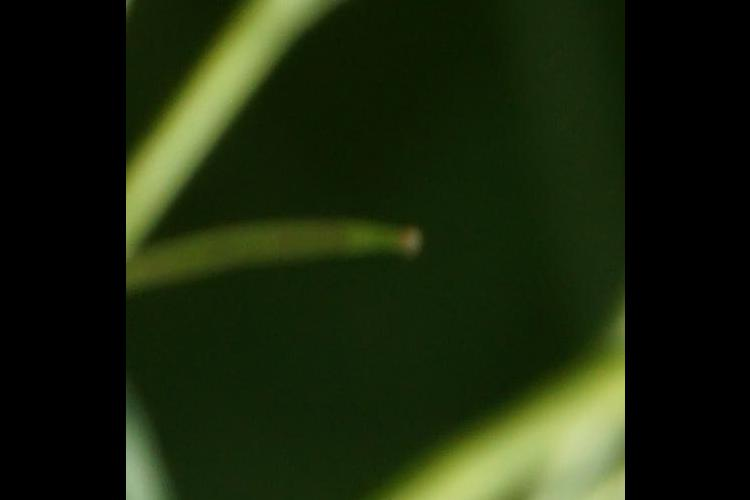pod: (154, 197, 436, 301)
